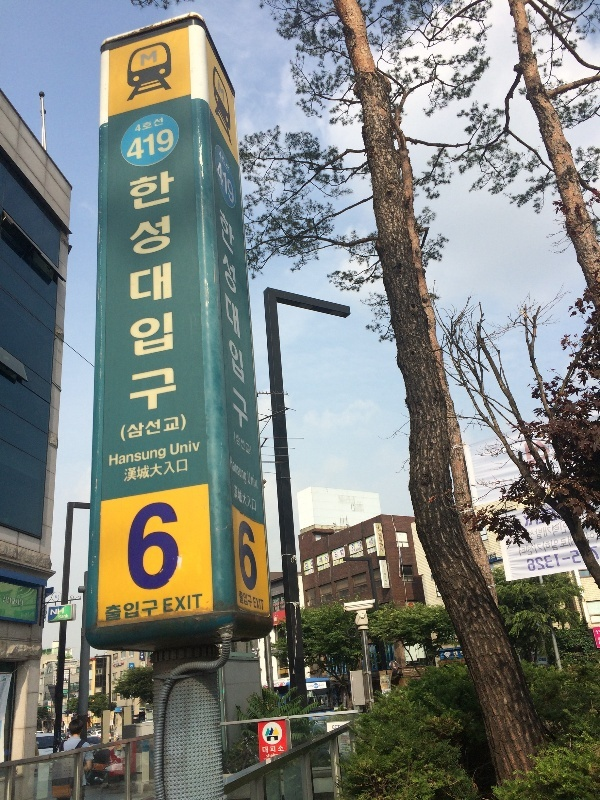text: (145, 167, 160, 418), (161, 167, 176, 418), (130, 167, 144, 418), (225, 203, 240, 435), (241, 203, 250, 435), (218, 203, 224, 435), (145, 500, 160, 591), (161, 500, 176, 591), (241, 519, 256, 591), (133, 500, 144, 591), (561, 519, 577, 560), (529, 519, 544, 560), (545, 519, 560, 560), (145, 125, 160, 165), (225, 160, 236, 208), (161, 125, 174, 165), (516, 519, 528, 560), (129, 412, 144, 444), (145, 412, 160, 444), (161, 412, 176, 444), (241, 484, 256, 514), (529, 548, 544, 575), (545, 548, 560, 575), (561, 548, 576, 575), (135, 125, 144, 165), (113, 598, 128, 622), (129, 598, 144, 622), (129, 459, 144, 483), (145, 459, 160, 483), (161, 459, 176, 483), (113, 447, 128, 468), (129, 447, 144, 468), (145, 447, 160, 468), (177, 593, 192, 614), (145, 598, 158, 622), (230, 455, 240, 486), (241, 431, 252, 459), (177, 412, 186, 444), (177, 438, 192, 457), (177, 500, 180, 591), (145, 116, 160, 134), (177, 459, 188, 483), (164, 593, 176, 614), (177, 167, 178, 418), (376, 524, 384, 553), (121, 412, 128, 444), (193, 593, 203, 614), (145, 50, 157, 67), (241, 590, 252, 608), (220, 160, 224, 208), (241, 455, 247, 486), (247, 470, 256, 490), (234, 484, 240, 514), (234, 431, 240, 459), (353, 546, 364, 561), (218, 78, 224, 105), (577, 548, 583, 575), (193, 438, 201, 457), (369, 537, 384, 547), (238, 519, 240, 591), (106, 598, 112, 622), (225, 150, 230, 177), (305, 560, 320, 569), (169, 438, 176, 457), (4, 596, 16, 607), (161, 447, 167, 468), (137, 116, 144, 134), (50, 608, 64, 616), (273, 745, 284, 754), (257, 597, 264, 611), (353, 540, 362, 550), (273, 746, 284, 754), (221, 150, 224, 177), (263, 745, 272, 754), (321, 564, 330, 573), (305, 568, 314, 577), (17, 596, 24, 607), (257, 519, 258, 591), (263, 746, 272, 754), (125, 459, 128, 483), (321, 554, 328, 564), (337, 549, 344, 559), (109, 447, 112, 468), (385, 565, 388, 584), (337, 559, 344, 567), (161, 116, 164, 134), (526, 548, 528, 575), (141, 50, 144, 67), (253, 597, 256, 611), (257, 470, 259, 490), (58, 614, 64, 620), (337, 725, 343, 731), (267, 753, 272, 759), (266, 754, 272, 759), (65, 614, 69, 620), (333, 559, 336, 567), (334, 549, 336, 559), (383, 565, 384, 584), (239, 590, 240, 608), (318, 564, 320, 573), (333, 725, 336, 731), (351, 546, 352, 561), (319, 554, 320, 564), (351, 540, 352, 550)
